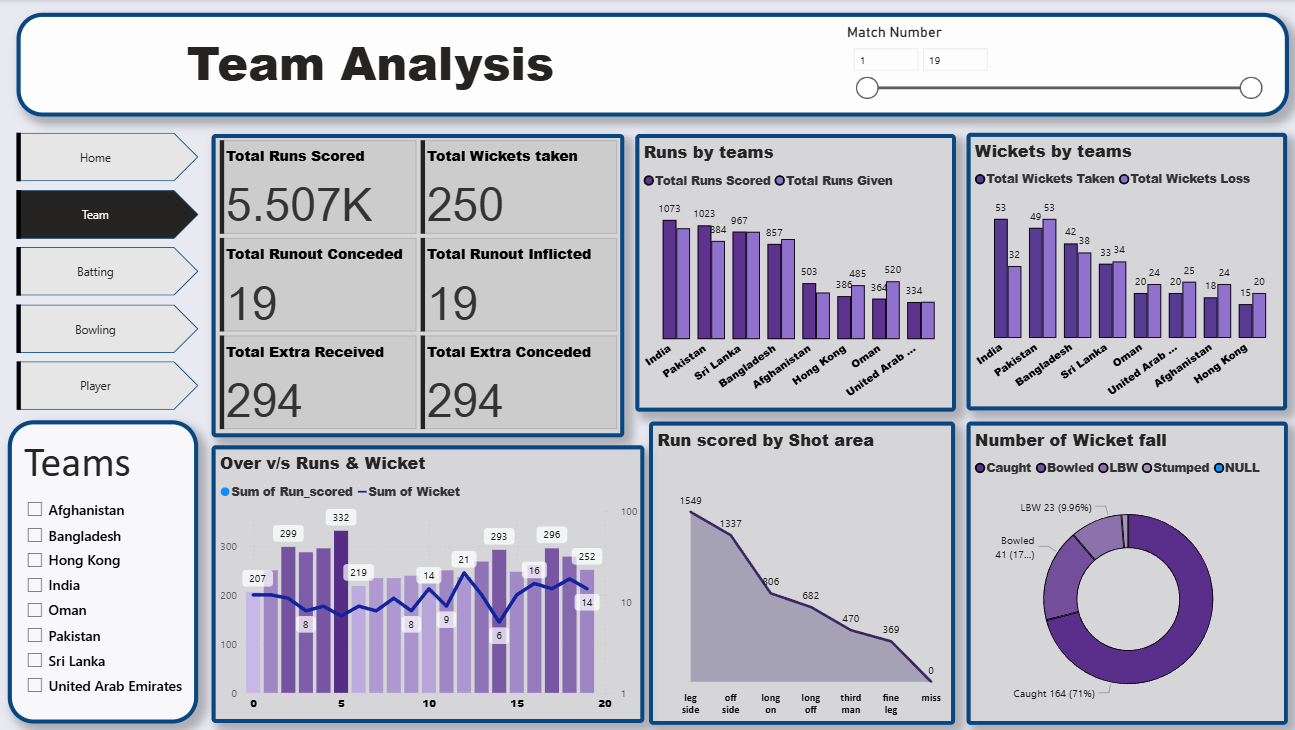

Layout of this report page (visuals, bound fields, positions):
{"tool":"powerbi","page":{"name":"Team","canvas":[1500,850],"ordinal":1},"visuals":[{"type":"textbox","box":[10,486.7,220,350],"z":0},{"type":"textbox","box":[19.9,15.7,1469.8,119.6],"z":1000},{"type":"slicer","fields":{"Values":["page_1(overall).Team_name"]},"box":[20,570,205,245],"z":2000},{"type":"pageNavigator","box":[20,155,210,320],"z":3000},{"type":"cardVisual","fields":{"Data":["Sum(page_1(overall).Total_runs_scored)","Sum(page_1(overall).Total_wickets_taken)","Sum(page_1(overall).Total_Run_out_Conceded)","Sum(page_1(overall).Total_Run_out_Inflicted)","Sum(page_1(overall).Total_extraruns_Received)","Sum(page_1(overall).Total_extraruns_Conceded)"]},"box":[245,155.2,477.1,350.4],"z":4000},{"type":"slicer","title":"Match Number","fields":{"Values":["page_1(Match).Match_id"]},"box":[974.2,27.1,492.8,95.4],"z":5000},{"type":"clusteredColumnChart","title":"Runs by teams","fields":{"Category":["page_1(overall).Team_name"],"Y":["Sum(page_1(overall).Total_runs_scored)","Sum(page_1(overall).Total_runs_given)"]},"box":[734.9,155.2,370,320.5],"z":6000},{"type":"clusteredColumnChart","title":"Wickets by teams","fields":{"Category":["page_1(overall).Team_name"],"Y":["Sum(page_1(overall).Total_wickets_taken)","Sum(page_1(overall).Total_wickets_loss)"]},"box":[1118.1,153.8,370.3,320.5],"z":7000},{"type":"lineClusteredColumnComboChart","title":"Over v/s Runs & Wicket","fields":{"Category":["page_ball_by_ball.over_number"],"Y":["Sum(page_ball_by_ball.Run_scored)"],"Y2":["Sum(page_ball_by_ball.Wicket)"]},"box":[245,515.6,500,320.5],"z":9000},{"type":"donutChart","title":"Number of Wicket fall","fields":{"Category":["ball_by_ball.Wicket_type"],"Y":["Sum(ball_by_ball.Wicket)"]},"box":[1117.6,487.2,371.5,350.6],"z":10000},{"type":"areaChart","title":"Run scored by Shot area","fields":{"Category":["page_ball_by_ball.Shot_area"],"Y":["Sum(page_ball_by_ball.Run_scored)"]},"box":[751,487.2,353.8,350.6],"z":11000}]}

Visuals, with their boxes in screenshot pixels (x1, y1, x2, y2), scaled from the page's 1500x850 canvas onto the 1295x730 screenshot:
textbox: bbox(9, 418, 199, 719)
textbox: bbox(17, 13, 1286, 116)
slicer - page_1(overall).Team_name: bbox(17, 490, 194, 700)
pageNavigator: bbox(17, 133, 199, 408)
cardVisual - Sum(page_1(overall).Total_runs_scored) x Sum(page_1(overall).Total_wickets_taken): bbox(212, 133, 623, 434)
"Match Number" slicer: bbox(841, 23, 1267, 105)
"Runs by teams" clusteredColumnChart: bbox(634, 133, 954, 409)
"Wickets by teams" clusteredColumnChart: bbox(965, 132, 1285, 407)
"Over v/s Runs & Wicket" lineClusteredColumnComboChart: bbox(212, 443, 643, 718)
"Number of Wicket fall" donutChart: bbox(965, 418, 1286, 720)
"Run scored by Shot area" areaChart: bbox(648, 418, 954, 720)
